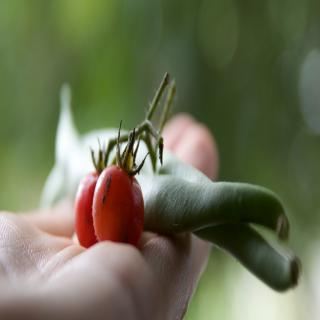tomato: (91, 118, 152, 250), (73, 170, 99, 248)
